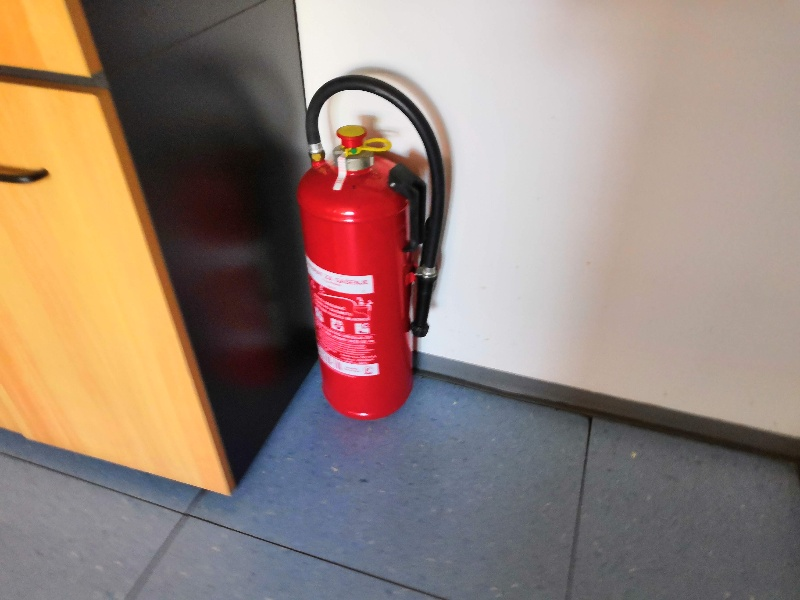vataparat: (294, 74, 446, 422)
